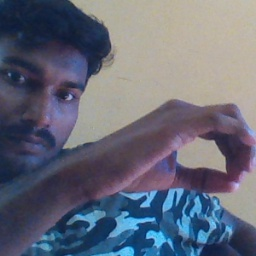O: (96, 91, 255, 213)
